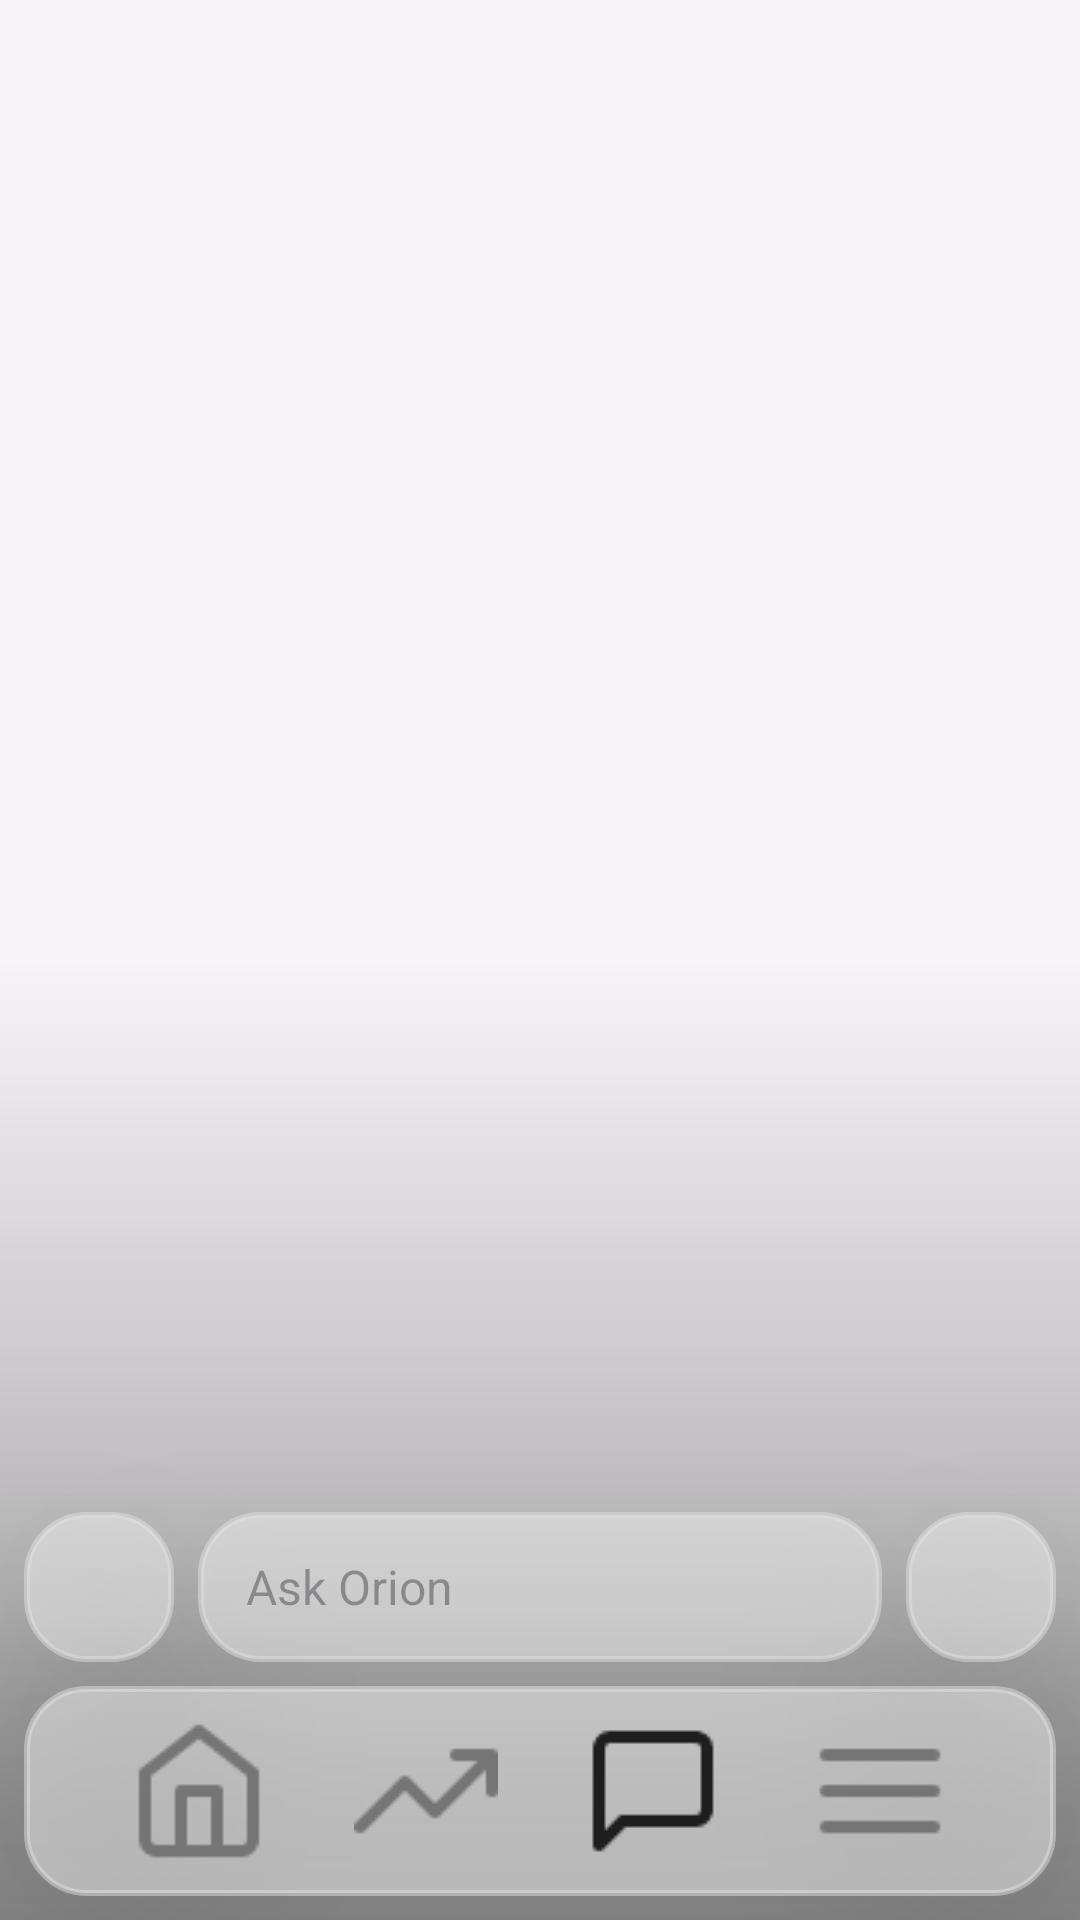

Named icons in this screenshot (1080 × 1920) and their bounding boxes, (x1, y1, x2, y2):
chatselected: (592, 1730, 714, 1852)
home: (138, 1725, 260, 1858)
menu: (820, 1749, 941, 1834)
